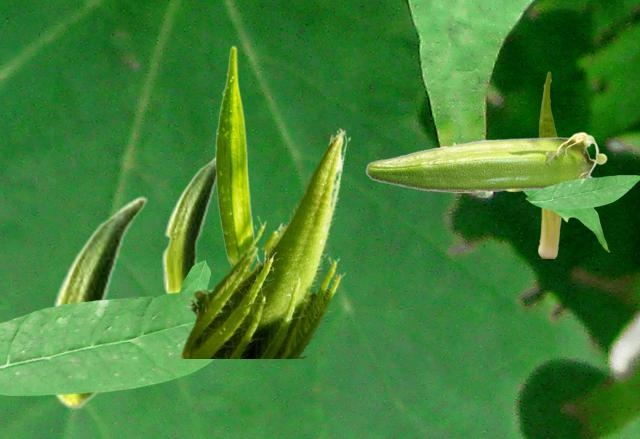okra: (178, 127, 350, 357), (50, 196, 146, 409), (365, 131, 606, 192), (215, 45, 255, 266), (161, 155, 215, 292), (538, 71, 561, 257)
